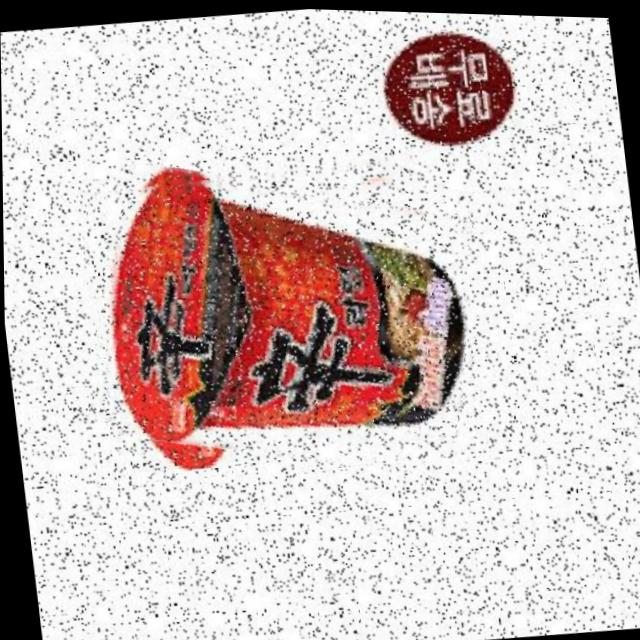Miscellaneous: (69, 140, 486, 493)
